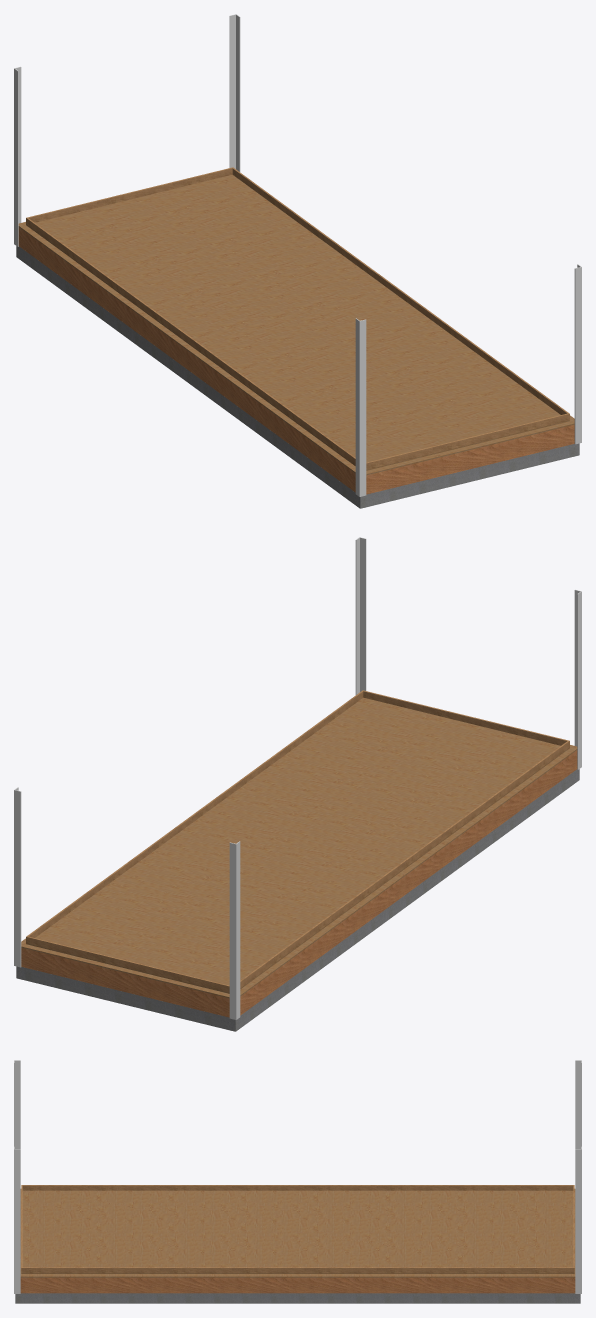
The model's file is 1storey_12x32_GFBlock.glb.
3 renders of one model, top to bottom at view 1: azimuth 30°, elevation 25°; view 2: azimuth 150°, elevation 25°; view 3: azimuth 270°, elevation 25°, orthographic. The views are drawn at different scales.
Parts seen in each view (by area): view 1: GF_FloorFinish.001, GF_framing.001, GF_BaseBoard.001, base_concrete, Vertical_Trim.001; view 2: GF_FloorFinish.001, GF_framing.001, GF_BaseBoard.001, base_concrete, Vertical_Trim.001; view 3: GF_FloorFinish.001, GF_framing.001, GF_BaseBoard.001, base_concrete, Vertical_Trim.001.
Part boxes in pixels (x1,y1,x2,y2): GF_FloorFinish.001: [18, 174, 574, 475]; GF_framing.001: [18, 227, 574, 494]; GF_BaseBoard.001: [26, 167, 569, 469]; base_concrete: [16, 246, 579, 508]; Vertical_Trim.001: [14, 14, 581, 496]; GF_FloorFinish.001: [21, 697, 577, 998]; GF_framing.001: [21, 750, 577, 1017]; GF_BaseBoard.001: [26, 690, 569, 992]; base_concrete: [16, 769, 579, 1031]; Vertical_Trim.001: [14, 537, 581, 1019]; GF_FloorFinish.001: [20, 1189, 575, 1277]; GF_framing.001: [20, 1277, 575, 1293]; GF_BaseBoard.001: [21, 1185, 574, 1273]; base_concrete: [15, 1293, 580, 1303]; Vertical_Trim.001: [14, 1060, 581, 1293].
Size of the model in its own units: 3.71 by 3 by 9.98.
5 materials, 4 textured.
